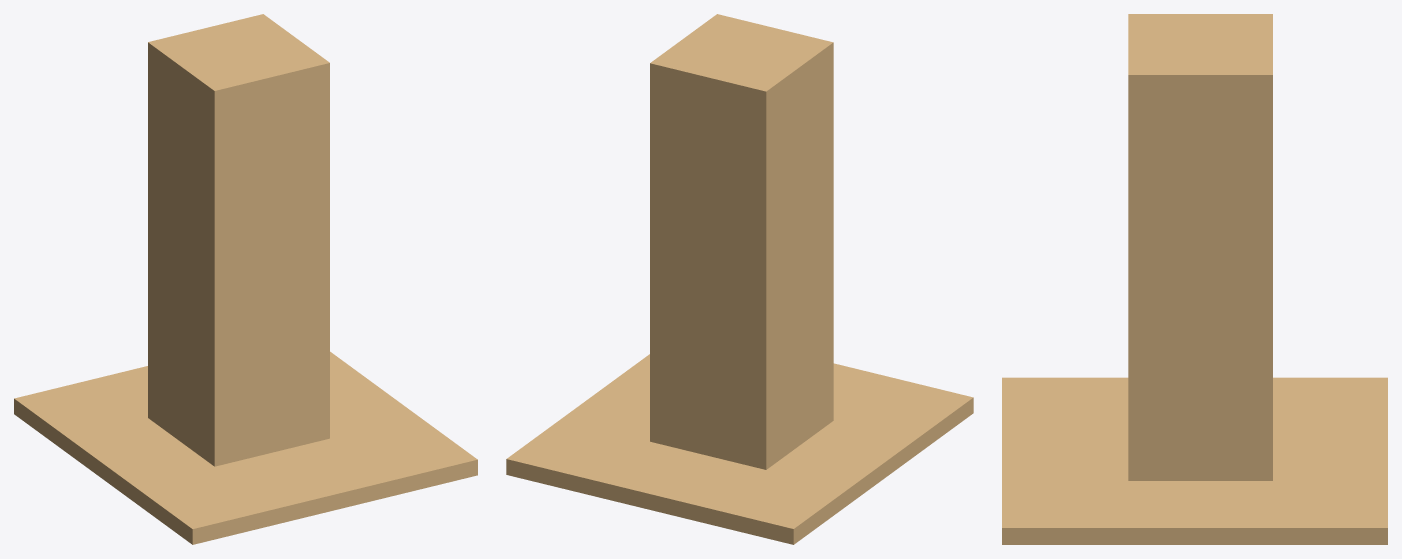
The model's file is Ketrungbay.1fbx.fbx.
The picture shows the model from 3 angles, left to right: view 1: azimuth 30°, elevation 25°; view 2: azimuth 150°, elevation 25°; view 3: azimuth 270°, elevation 25°; orthographic projection. The views are drawn at different scales.
Visible parts, largest first — view 1: Cube.001, Cube; view 2: Cube.001, Cube; view 3: Cube.001, Cube.
Boxes of the visible parts, box(x1,y1,x2,y2) form: Cube.001: box(148, 14, 329, 466); Cube: box(14, 351, 477, 544); Cube.001: box(650, 14, 833, 469); Cube: box(506, 354, 973, 544); Cube.001: box(1128, 14, 1272, 480); Cube: box(1002, 377, 1387, 544).
Bounding box in the file's own units: 17.73 × 23.26 × 19.23.
